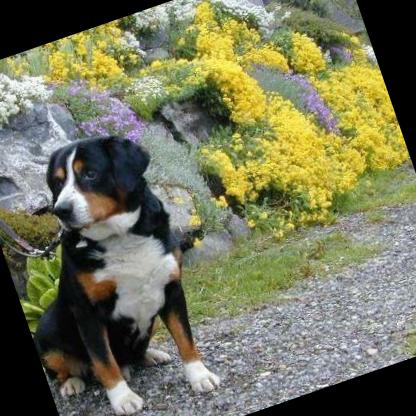EntleBucher: (0, 121, 227, 416)
